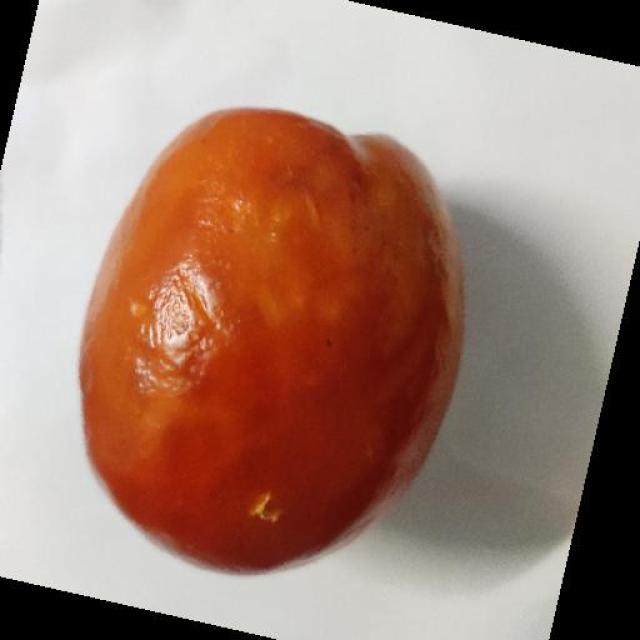Stale_tomato: (157, 84, 457, 576)
